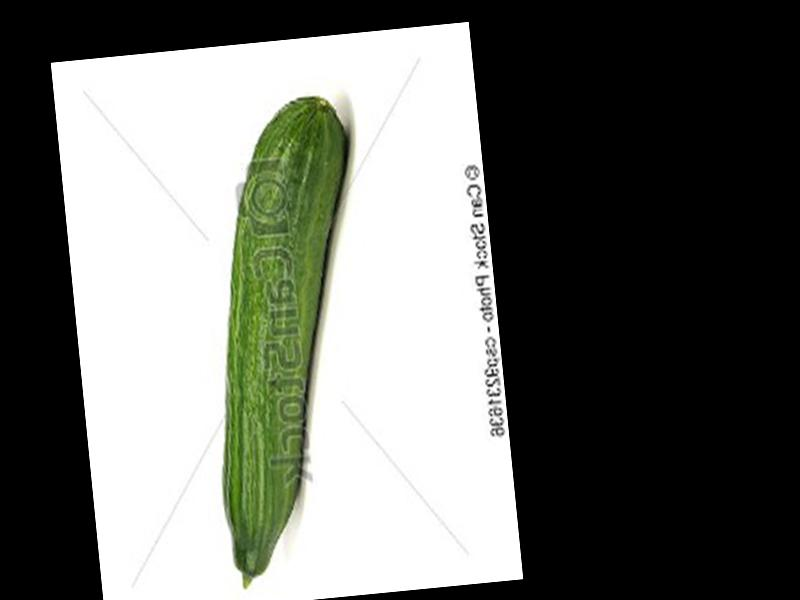Cucumber: (187, 96, 389, 588)
